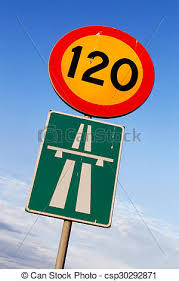Speed_limit_120km: (47, 24, 155, 119)
